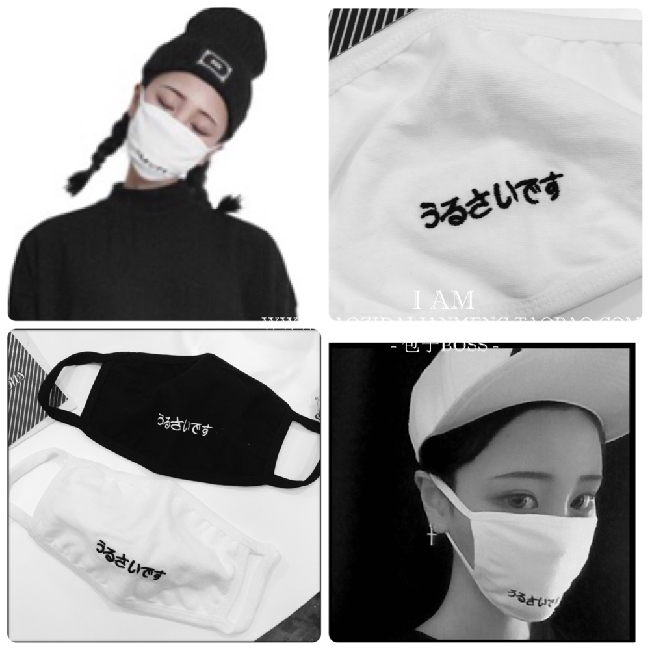face_mask: (467, 423, 601, 623), (130, 69, 219, 184)
